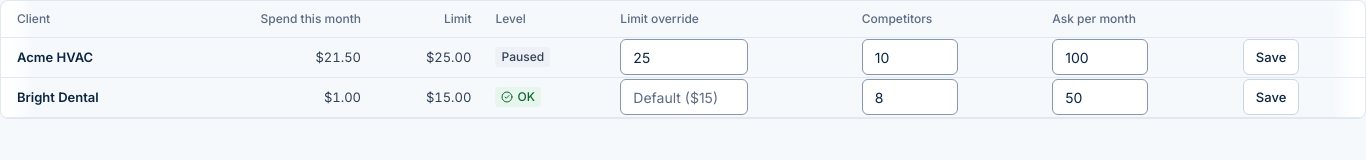
it: ClientLimitsTable › shows "Pause lifted." when the save lifted a pause
Click the button "Save" in the row of "Acme HVAC" at coordinates (1271, 57), box [1243,39,1299,75]
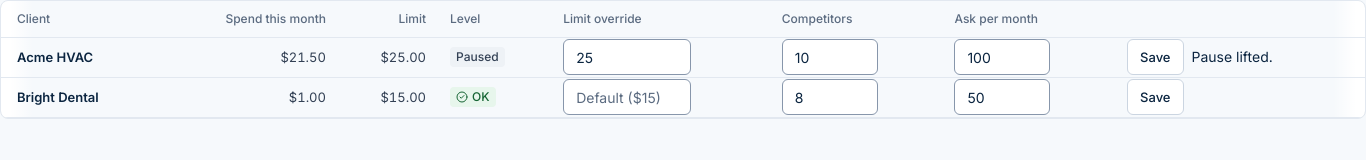
Expected: the text "Pause lifted." is shown, [1192,47,1273,67]
